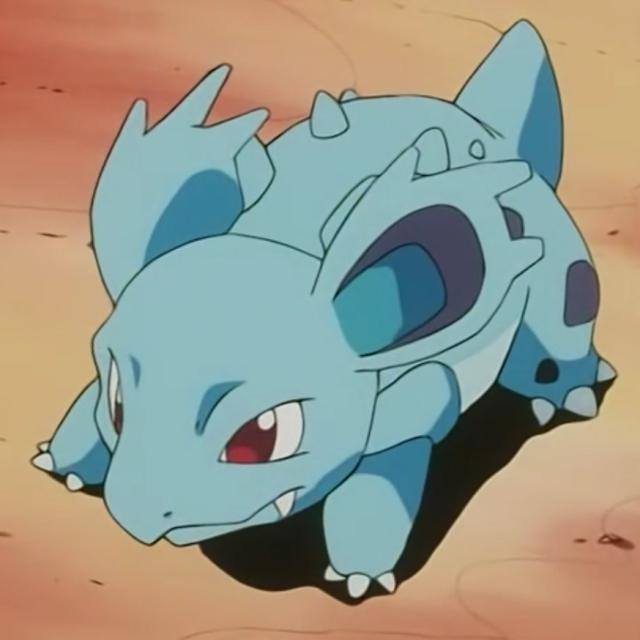Nidorina: (36, 14, 640, 609)
